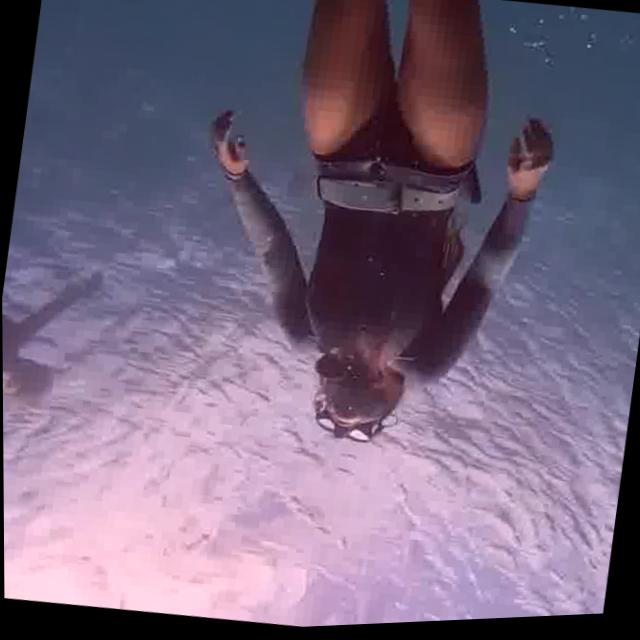human: (158, 0, 585, 496), (1, 105, 134, 498)
